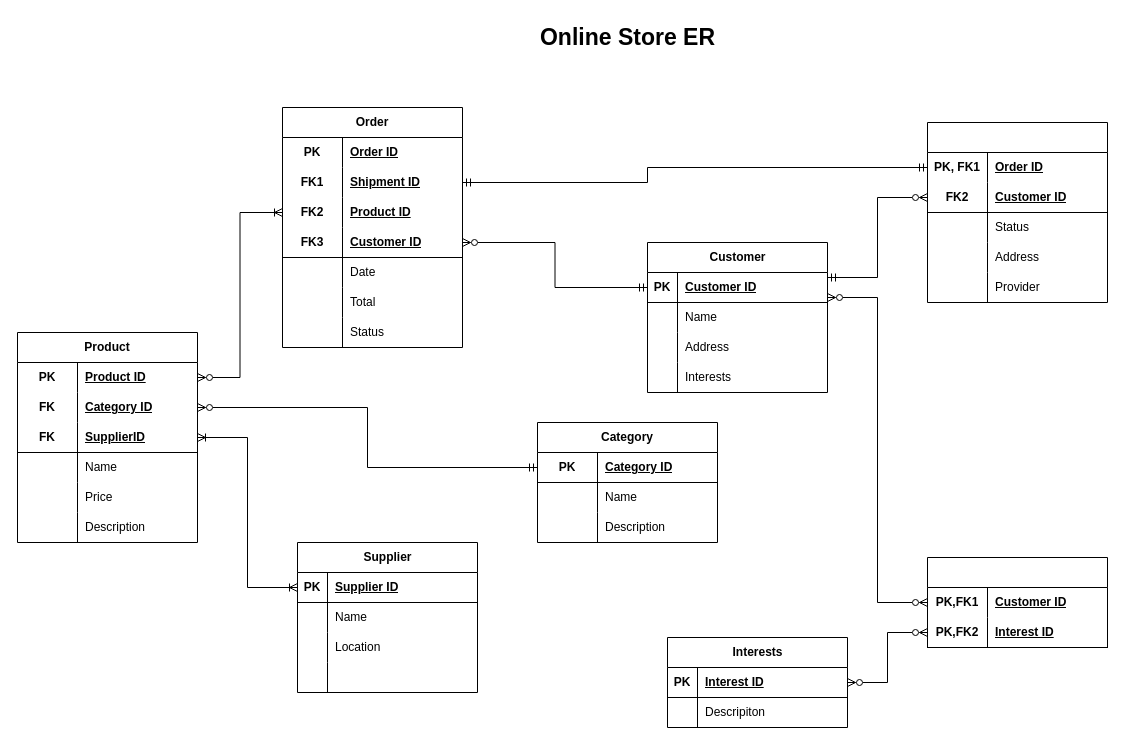
Image size: 1125x745. Some labels were removed from this diagram. Each missing label, with the box of its shape:
Customer Interests: (926, 556, 1108, 648)
Shipment: (926, 122, 1108, 302)
